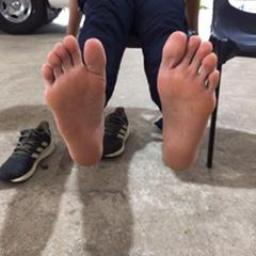Plantar View -Both Feet-: (37, 28, 226, 189)
